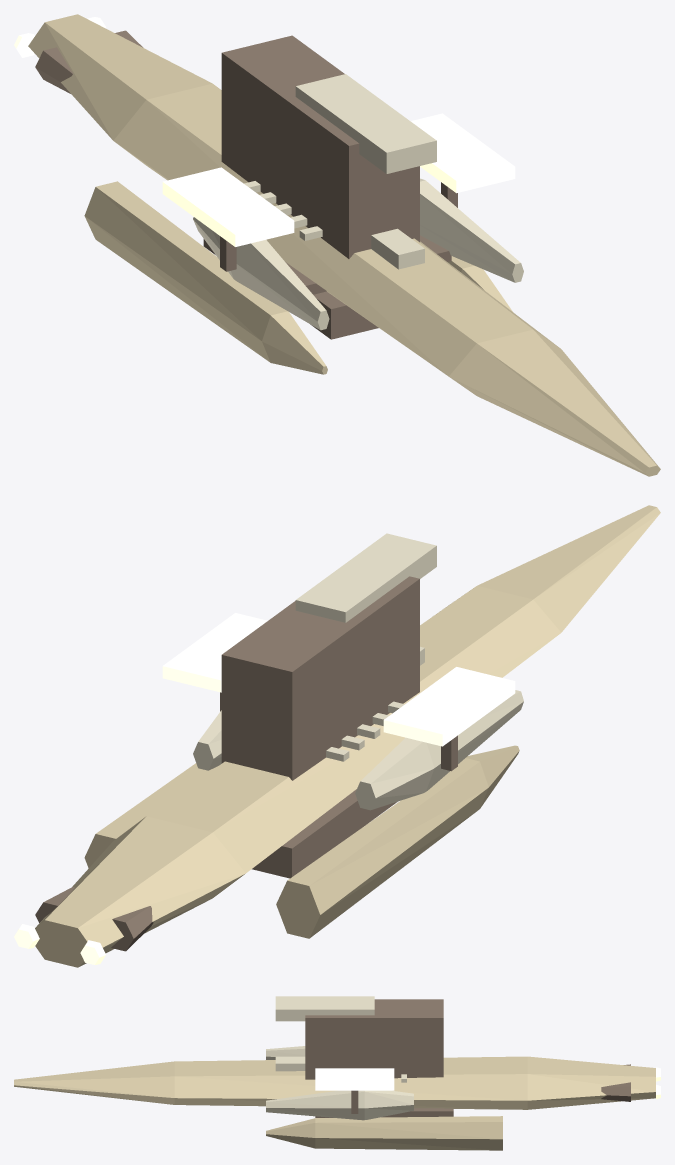
The picture shows the model from 3 angles, top to bottom: view 1: azimuth 30°, elevation 25°; view 2: azimuth 150°, elevation 25°; view 3: azimuth 270°, elevation 25°; orthographic projection. The views are drawn at different scales.
Bounding box in the file's own units: 3.27 × 2.45 × 12.05.
